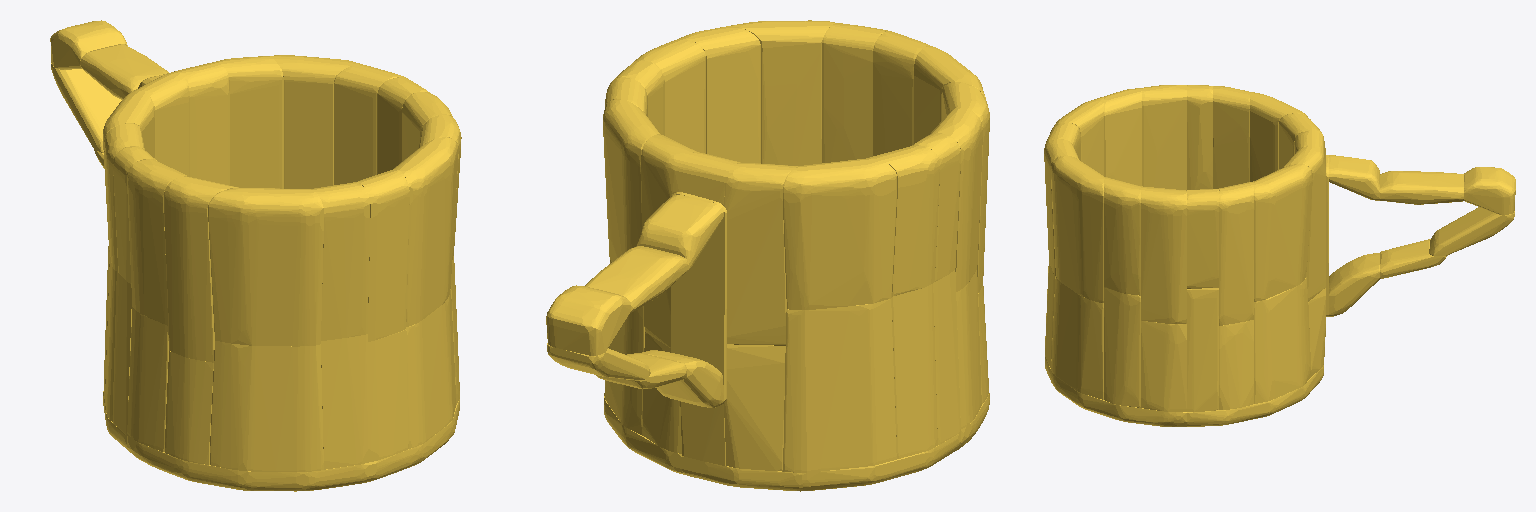
robot.urdf — 23.urdf:
<?xml version="1.0" ?>
<robot name="23.urdf">
	<link name="baseLink">
		<inertial>
			<origin rpy="0 0 0" xyz="0 0 0"/>
				<mass value="0.1"/>
				<inertia ixx="6e-5" ixy="0" ixz="0" iyy="6e-5" iyz="0" izz="6e-5"/>
		</inertial>
		<visual>
			<origin rpy="0 0 0" xyz="0 0 0"/>
			<geometry>
				<mesh filename="43_decom_wt.obj" scale="1.10 1.10 0.93"/>
			</geometry>
			<material name="yellow">
				<color rgba="0.98 0.84 0.35 1"/>
			</material>
		</visual>
		<collision>
			<origin rpy="0 0 0" xyz="0 0 0"/>
			<geometry>
				<mesh filename="43_decom_wt.obj" scale="1.10 1.10 0.93"/>
			</geometry>
		</collision>
	</link>
</robot>

--- What the picture shows (computed from the rendered views, not written in the file) ---
3 views of the same robot in one strip: view 1: azimuth 30°, elevation 25°; view 2: azimuth 150°, elevation 25°; view 3: azimuth 270°, elevation 25° (orthographic).
Model 23.urdf with 1 links and 0 joints (none), rooted at baseLink, posed all joints at 0.
Links seen in each view (by area): view 1: baseLink; view 2: baseLink; view 3: baseLink.
Link boxes in pixels (x1,y1,x2,y2): baseLink: (50, 20, 461, 491); baseLink: (546, 20, 989, 491); baseLink: (1044, 85, 1515, 426).
Size in the robot's own frame: 0.1576 by 0.264 by 0.1438 metres.
1 mesh visuals loaded from 1 distinct referenced files (1 OBJ).